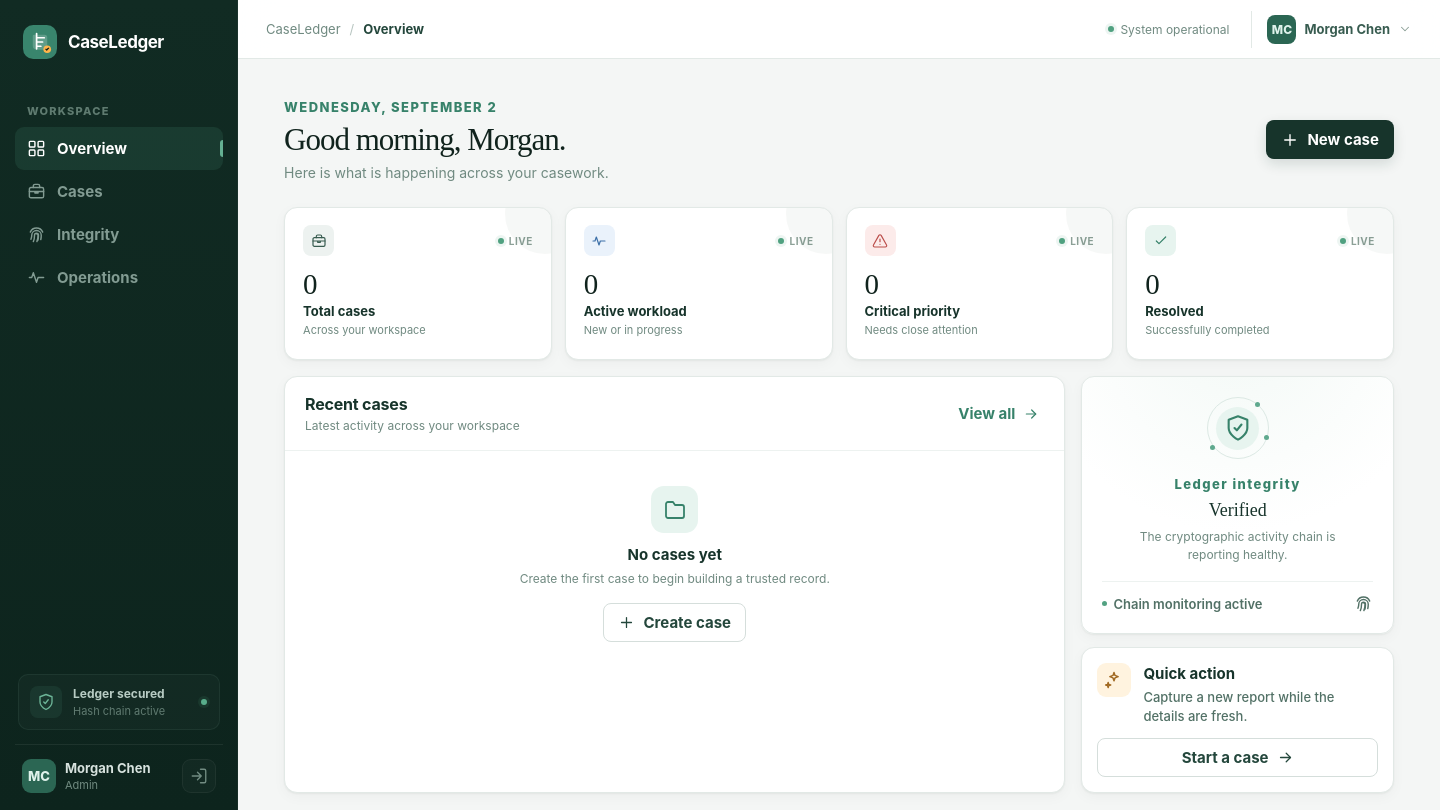
Test: App authentication discovery › shows the operations navigation and page to Admin users
Click the button "Operations". click: x=119, y=278
box: [15,256,223,299]
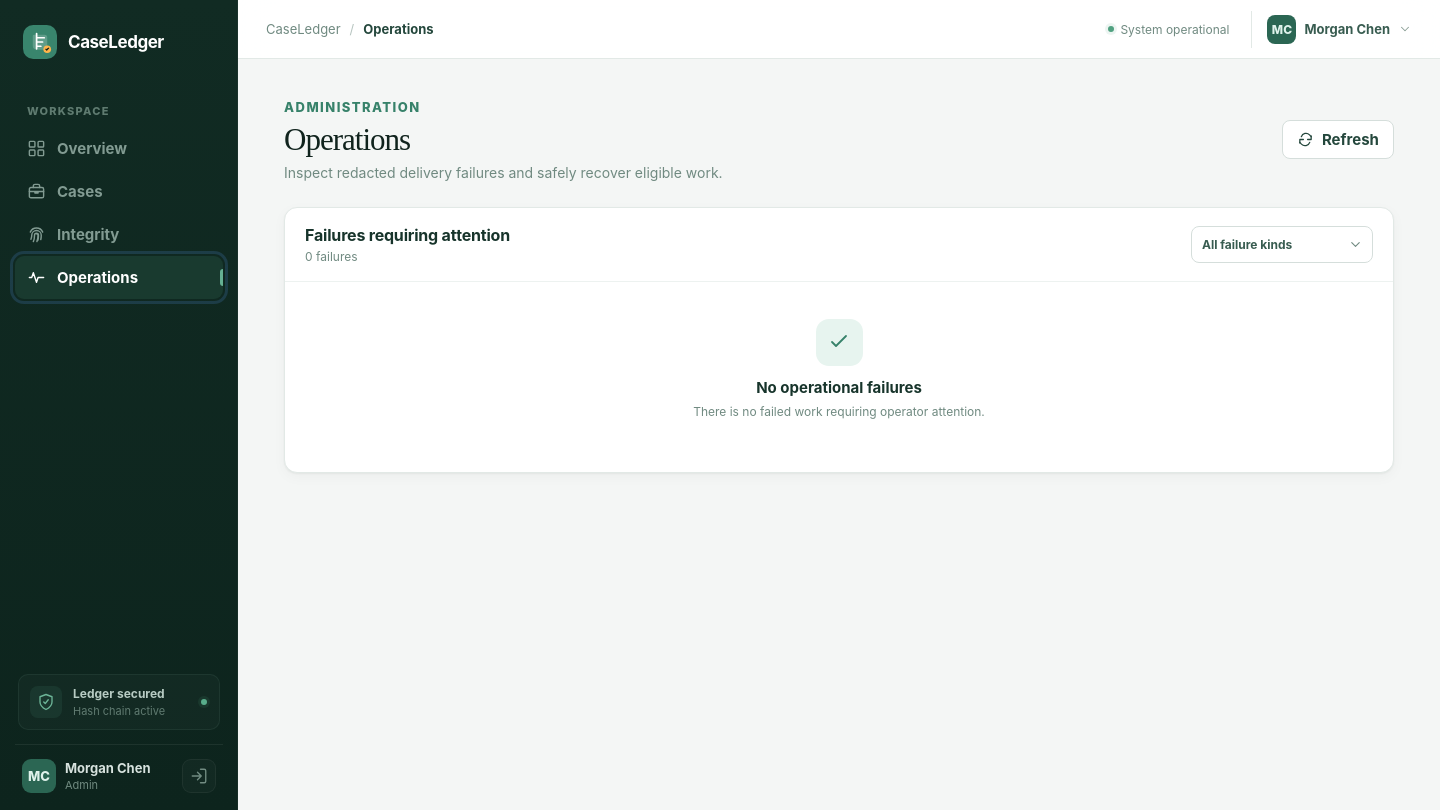
Expected: the heading "Operations" is shown, [284,122,410,157]
